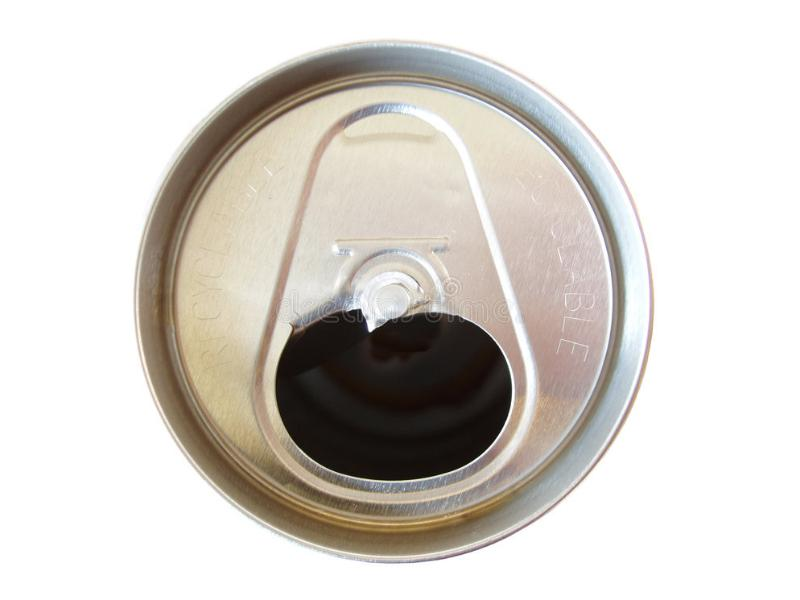can: (128, 35, 671, 558)
